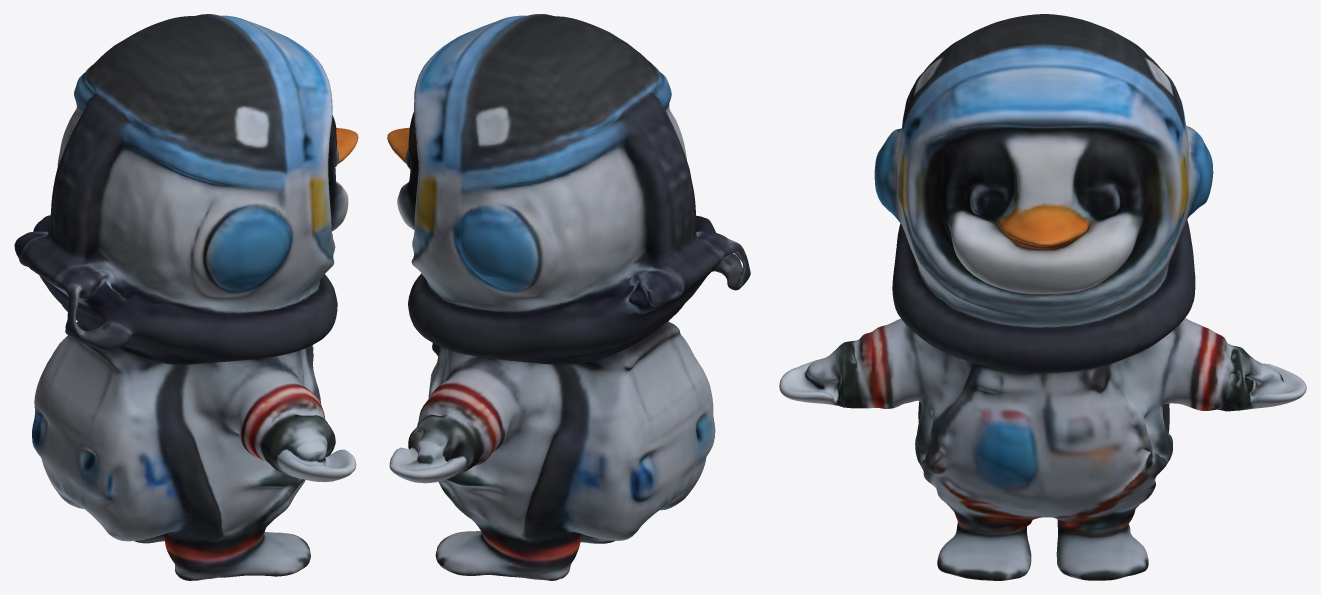
The model's file is Cutest_penguin_astr.gltf.
3 renders of one model, left to right at view 1: azimuth 30°, elevation 25°; view 2: azimuth 150°, elevation 25°; view 3: azimuth 270°, elevation 25°, orthographic.
Parts seen in each view (by area): view 1: high_poly; view 2: high_poly; view 3: high_poly.
Boxes of the visible parts, bbox=[...] form: high_poly: bbox=[14, 14, 358, 580]; high_poly: bbox=[387, 14, 750, 580]; high_poly: bbox=[779, 14, 1306, 580].
Size of the model in its own units: 0.6537 by 1 by 0.9128.
Materials: 1 (1 with a texture image).
